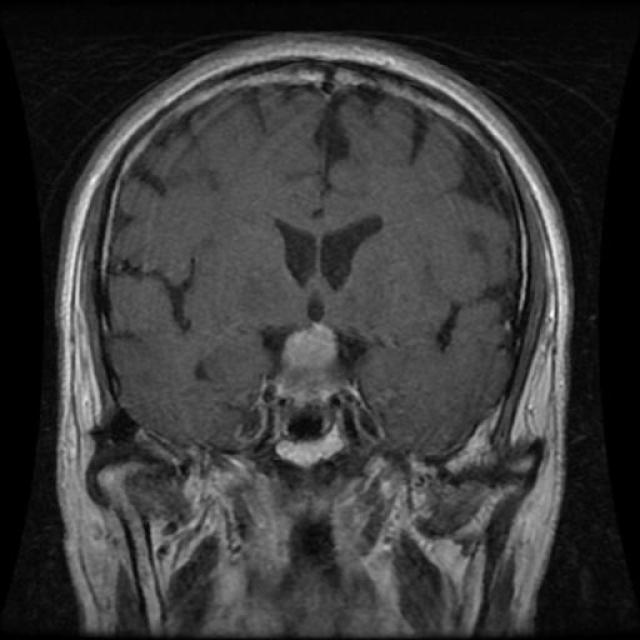brain_tumor: (279, 324, 351, 410)
